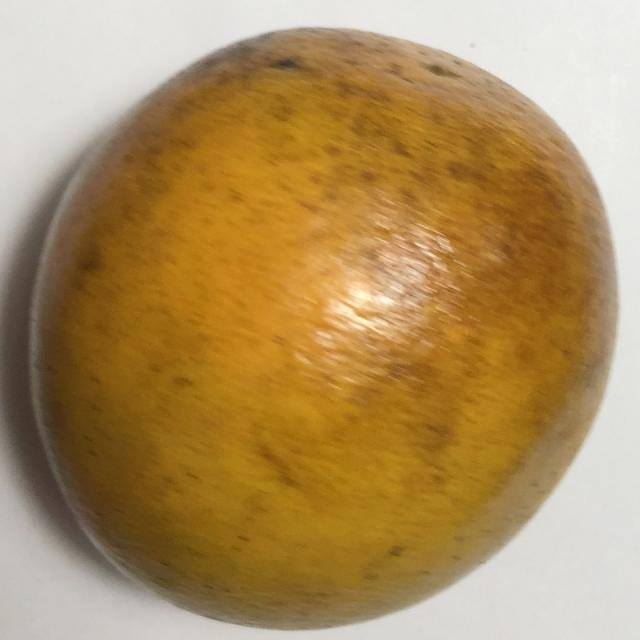blackspot: (18, 12, 628, 633)
